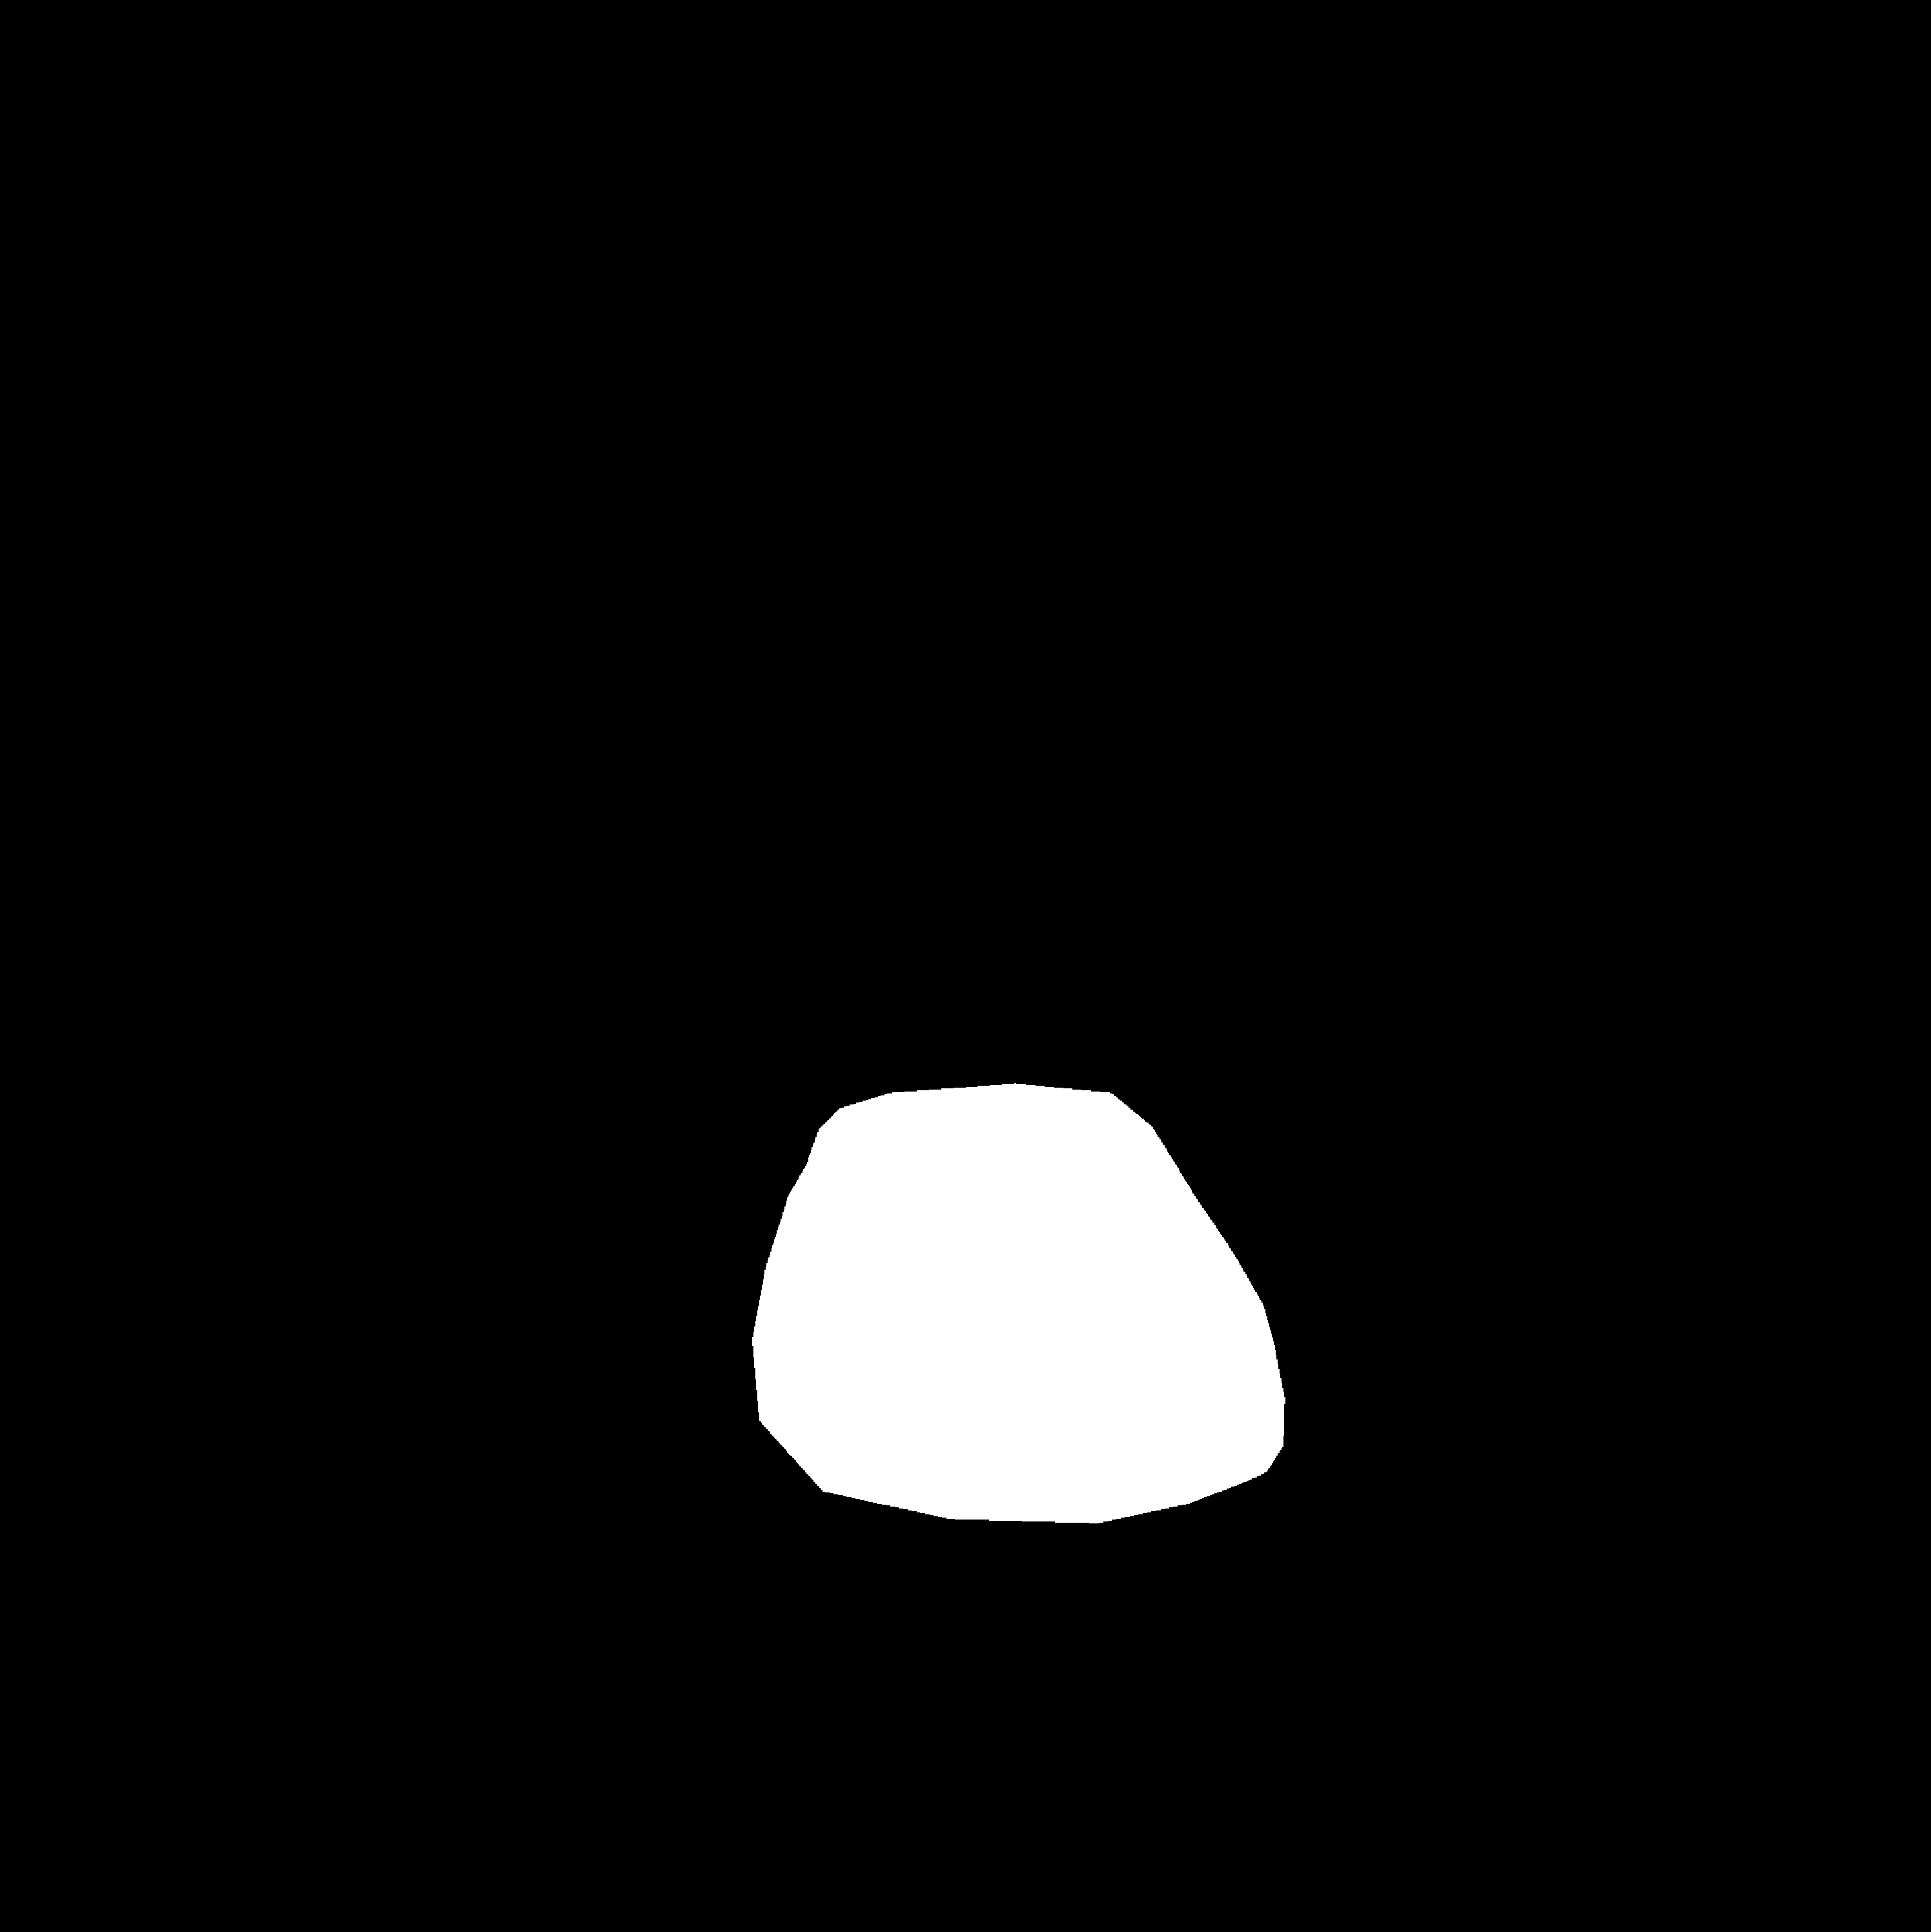heart: (746, 1156, 1282, 1541)
left_lung: (301, 304, 953, 1651)
right_lung: (1050, 320, 1515, 1609)
